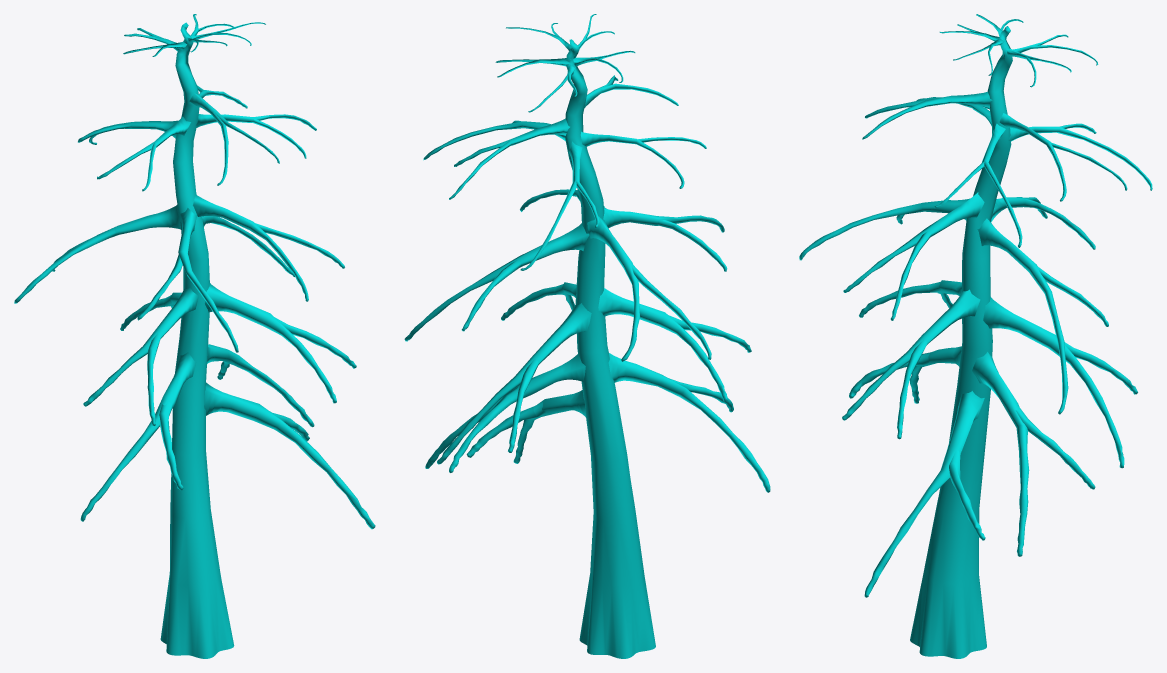
File: dead.glb
The picture shows the model from 3 angles, left to right: view 1: azimuth 30°, elevation 25°; view 2: azimuth 150°, elevation 25°; view 3: azimuth 270°, elevation 25°; orthographic projection. The views are drawn at different scales.
Visible parts, largest first — view 1: dead; view 2: dead; view 3: dead.
Part boxes in pixels (left/top/right/bottom): dead: left=14, top=14, right=375, bottom=658; dead: left=404, top=14, right=770, bottom=658; dead: left=799, top=14, right=1152, bottom=658.
Size of the model in its own units: 8.36 by 16.44 by 8.41.
